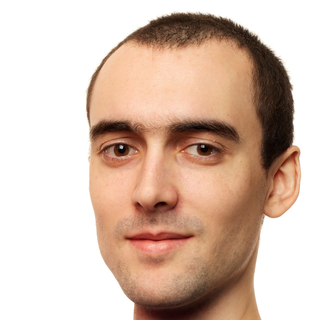eye: (174, 140, 227, 165), (98, 139, 141, 163)
